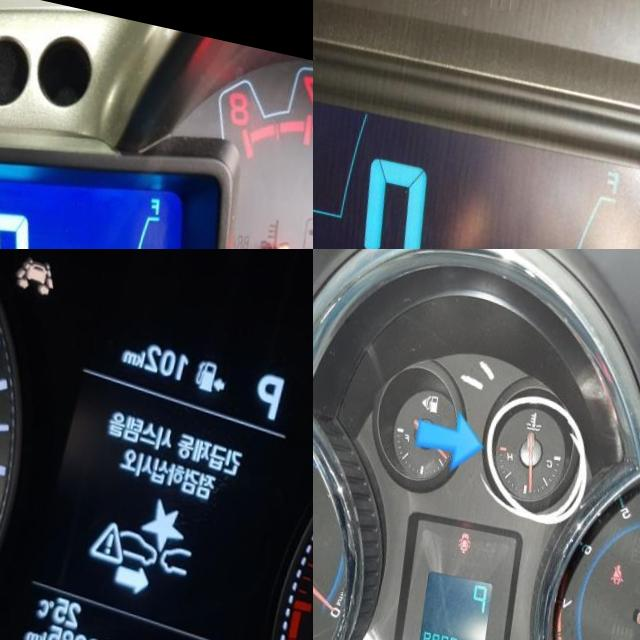Doors: (468, 516, 483, 540)
LaneCenteringOff: (24, 249, 67, 283)
